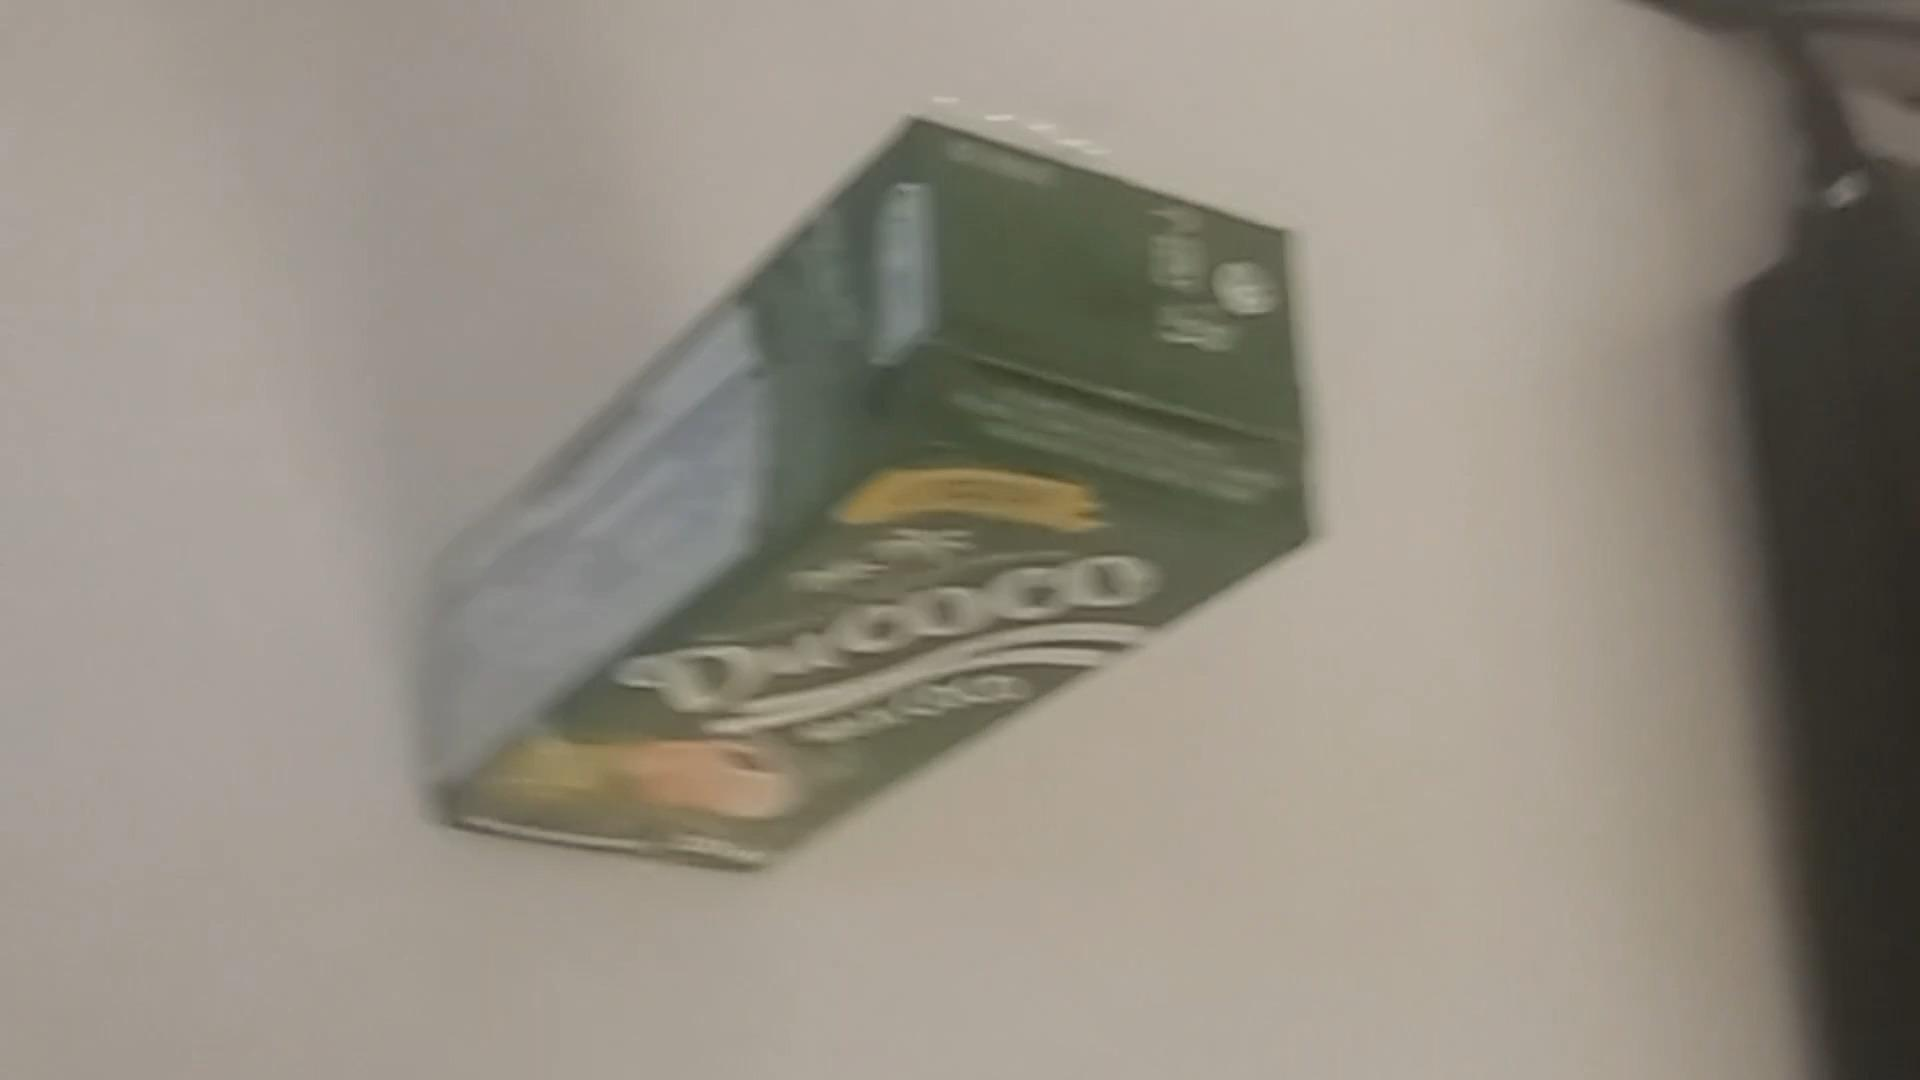coco: (410, 120, 1325, 898)
